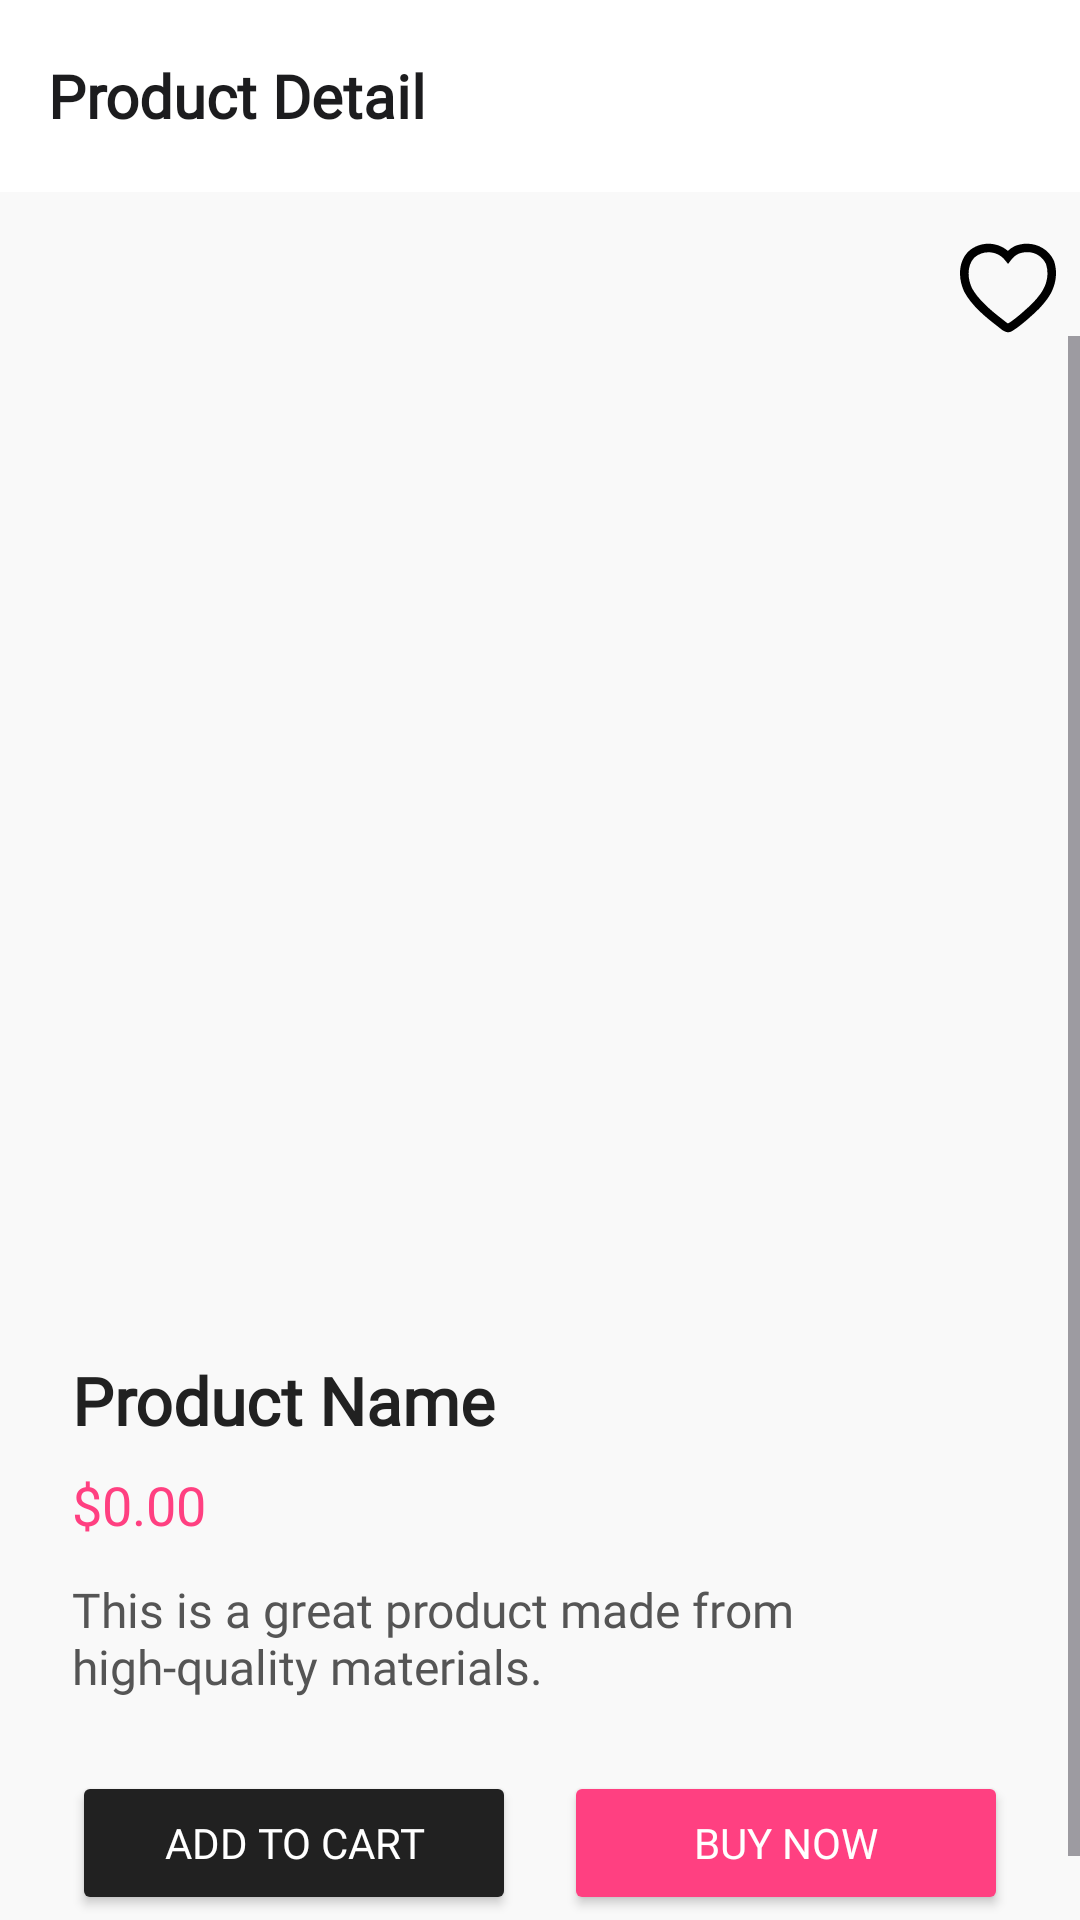

Icon click points for this 1080*1920 phone screenshot, format (x=x, y=y):
Wishlist Icon: (x=1008, y=288)
